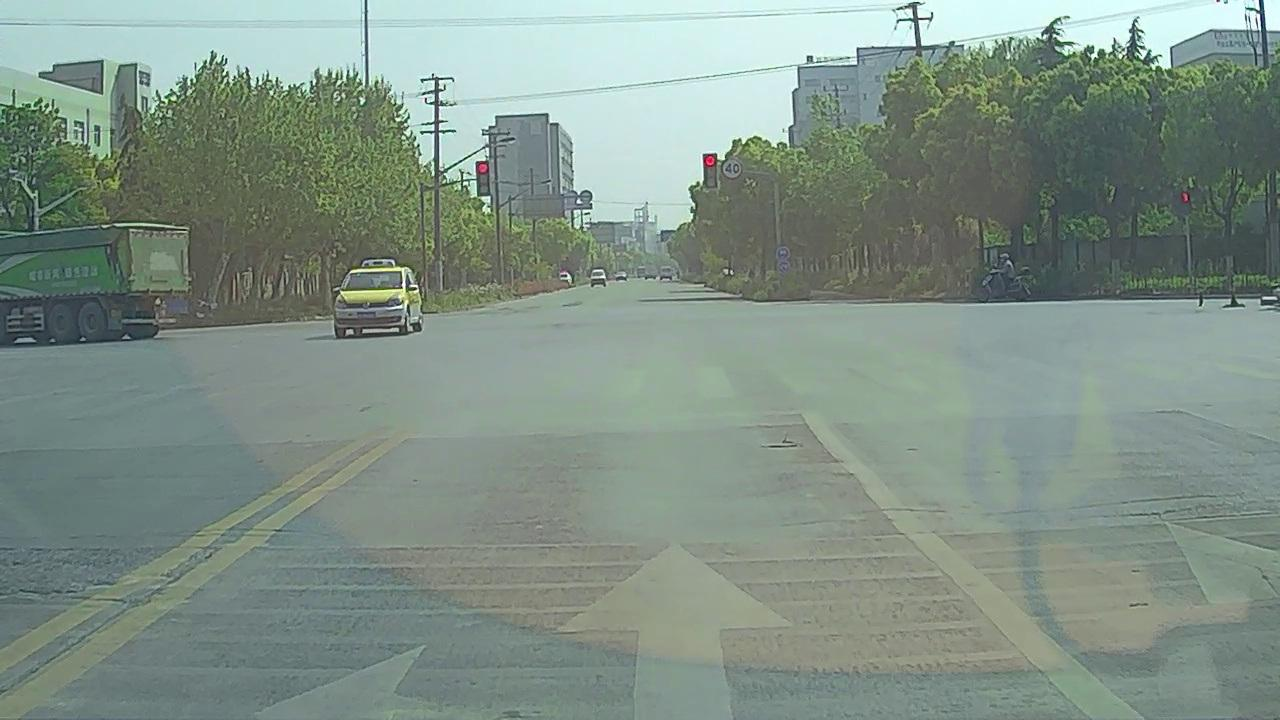traffic_light: (476, 162, 491, 197), (703, 154, 717, 187)
